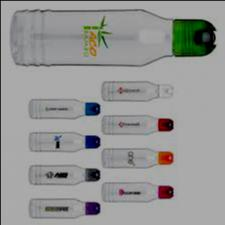Plastic: (9, 7, 218, 67)
